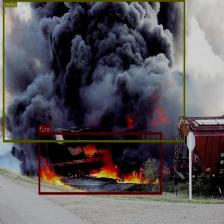fire: (38, 132, 162, 194)
smoke: (3, 0, 184, 142)
